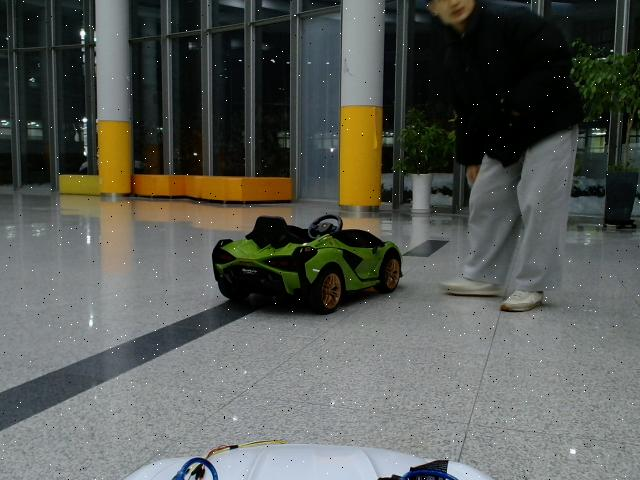car: (211, 215, 403, 315)
